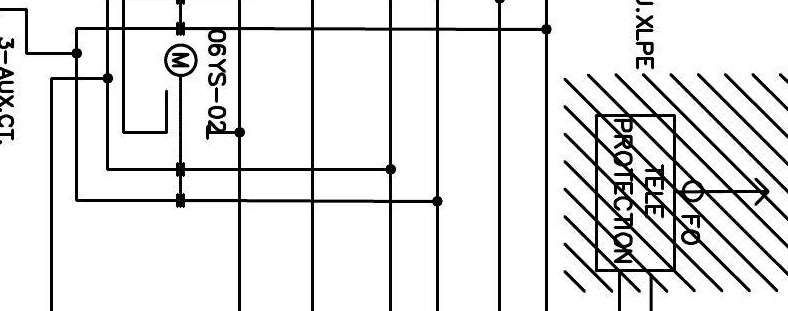115_1way_ds_w_motor: (163, 42, 210, 141)
tele_protection: (592, 111, 679, 275)
